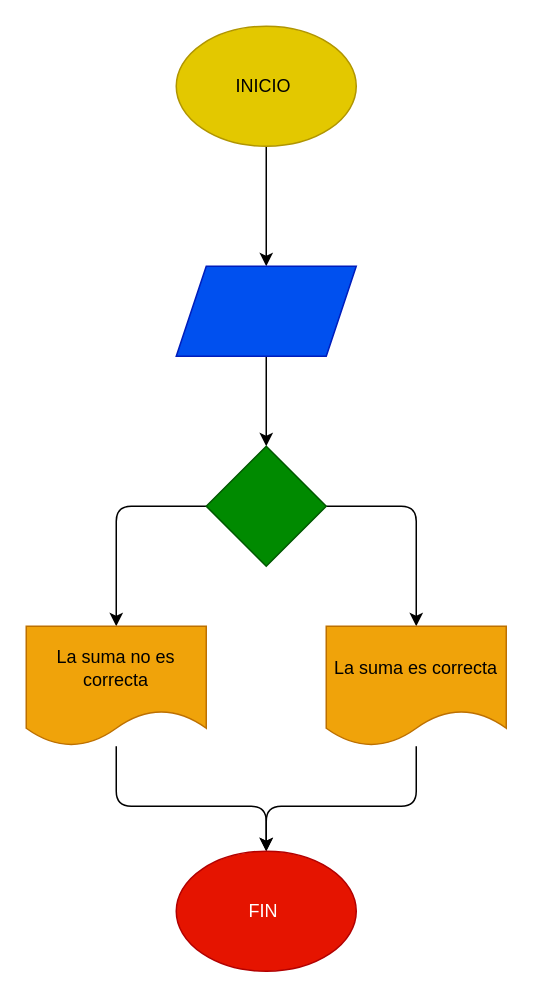
This 533x998 diagram has some shape labels left out. The shapes that lost their labels are listed below. From the top down, each one's centre as x and y in pixels, then its label:
[265,310]: X,Y,Z
[265,505]: Z == X + Y
